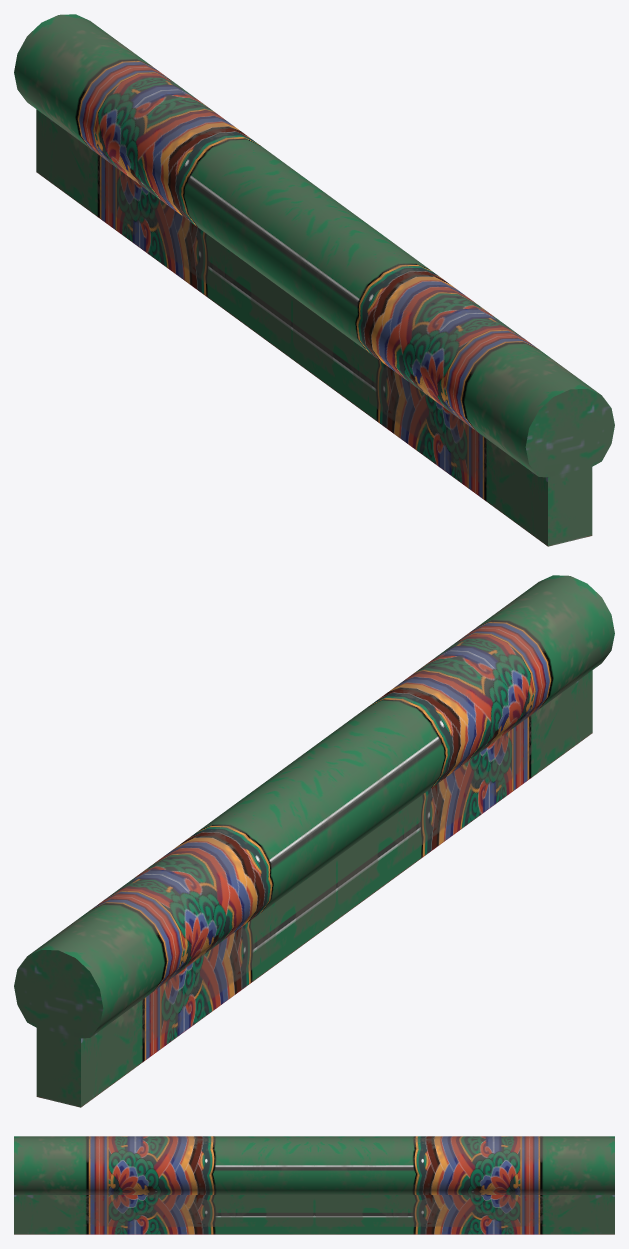
File: SM_Purlin02c.fbx
The picture shows the model from 3 angles, top to bottom: view 1: azimuth 30°, elevation 25°; view 2: azimuth 150°, elevation 25°; view 3: azimuth 270°, elevation 25°; orthographic projection. The views are drawn at different scales.
Visible parts, largest first — view 1: SM_Purlin02c; view 2: SM_Purlin02c; view 3: SM_Purlin02c.
Part boxes in pixels (left/top/right/bottom): SM_Purlin02c: left=14, top=14, right=614, bottom=546; SM_Purlin02c: left=14, top=575, right=614, bottom=1107; SM_Purlin02c: left=14, top=1136, right=614, bottom=1234.
Size of the model in its own units: 20.15 by 200 by 32.73.
1 material, 1 textured.
